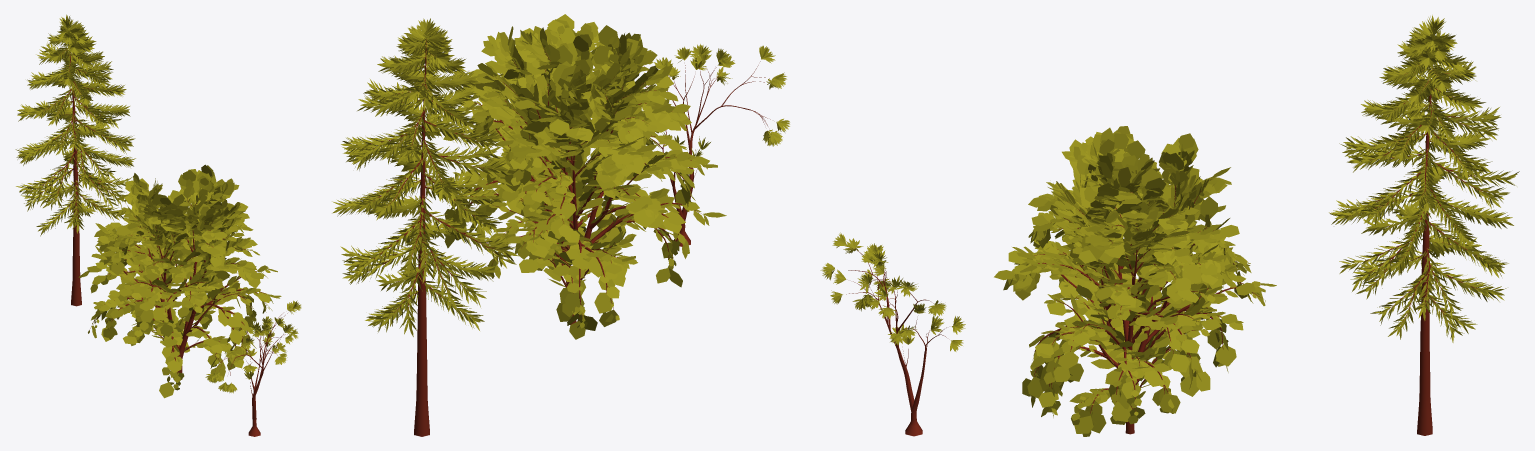
The model's file is tree1.fbx.
3 renders of one model, left to right at view 1: azimuth 30°, elevation 25°; view 2: azimuth 150°, elevation 25°; view 3: azimuth 270°, elevation 25°, orthographic. The views are drawn at different scales.
Visible parts, largest first — view 1: leaves, leaves.002, leaves.001, tree, tree.001; view 2: leaves, leaves.002, tree, leaves.001, tree.001; view 3: leaves, leaves.002, leaves.001, tree, tree.001.
Part boxes in pixels (x1,y1,x2,y2): leaves: [78, 164, 281, 398]; leaves.002: [15, 14, 135, 306]; leaves.001: [205, 300, 301, 393]; tree: [90, 198, 268, 379]; tree.001: [217, 313, 287, 436]; leaves: [441, 14, 726, 339]; leaves.002: [332, 18, 518, 436]; tree: [456, 38, 701, 324]; leaves.001: [644, 44, 789, 156]; tree.001: [644, 61, 770, 246]; leaves: [994, 126, 1276, 436]; leaves.002: [1329, 15, 1519, 435]; leaves.001: [820, 232, 965, 351]; tree: [1034, 184, 1260, 434]; tree.001: [846, 249, 946, 436].
Bounding box in the file's own units: 554 × 911 × 1403.
